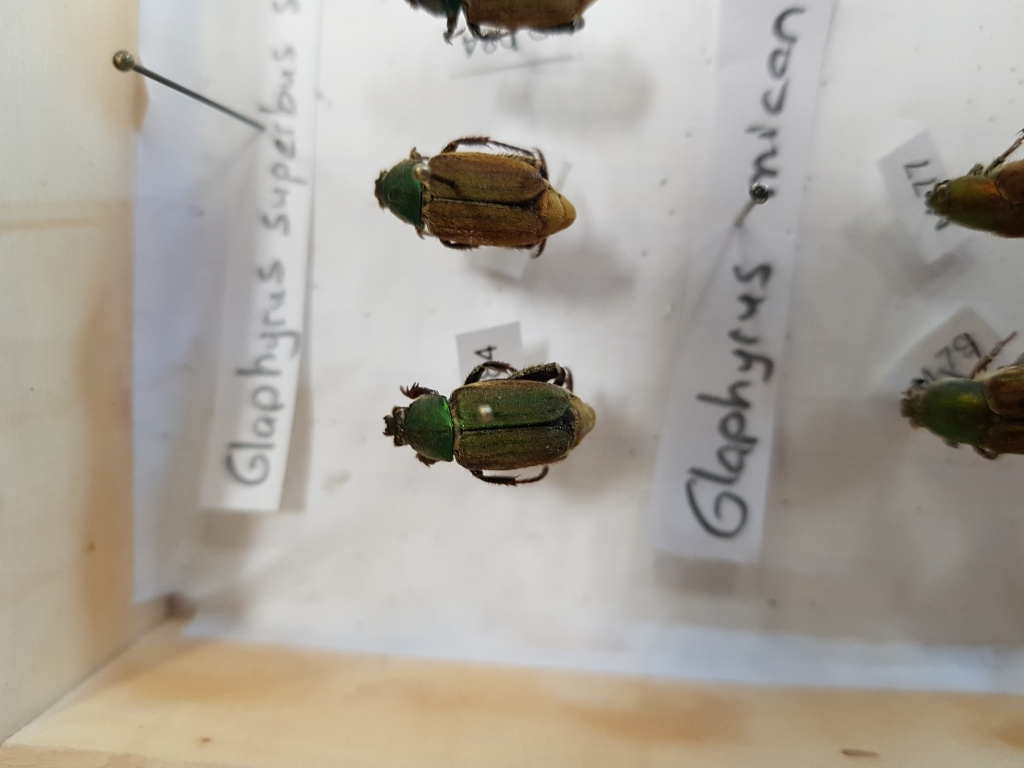Glaphyrus_superbus: (378, 351, 612, 494)
